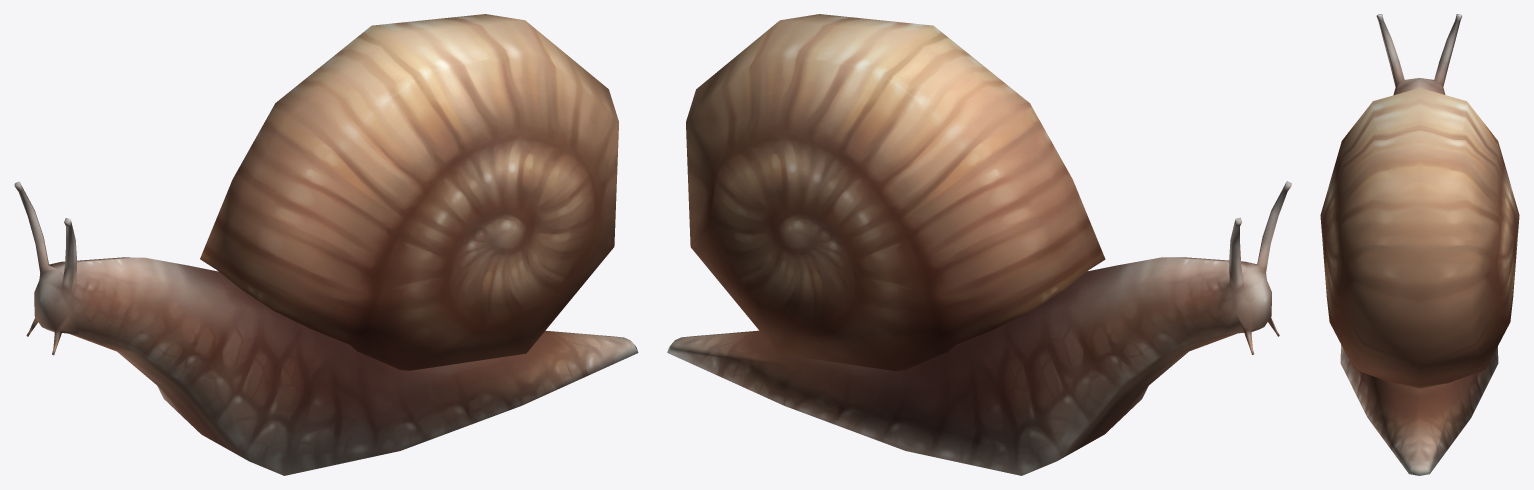
Rendered from snail.fbx.
3 views of the same model, side by side, from view 1: azimuth 30°, elevation 25°; view 2: azimuth 150°, elevation 25°; view 3: azimuth 270°, elevation 25° (orthographic). The views are drawn at different scales.
Parts seen in each view (by area): view 1: Cube; view 2: Cube; view 3: Cube.
Boxes of the visible parts, left/top/right/bottom form: Cube: left=14, top=14, right=638, bottom=475; Cube: left=667, top=14, right=1291, bottom=475; Cube: left=1320, top=14, right=1519, bottom=475.
Size of the model in its own units: 26.34 by 15.62 by 9.56.
1 material, 1 textured.
